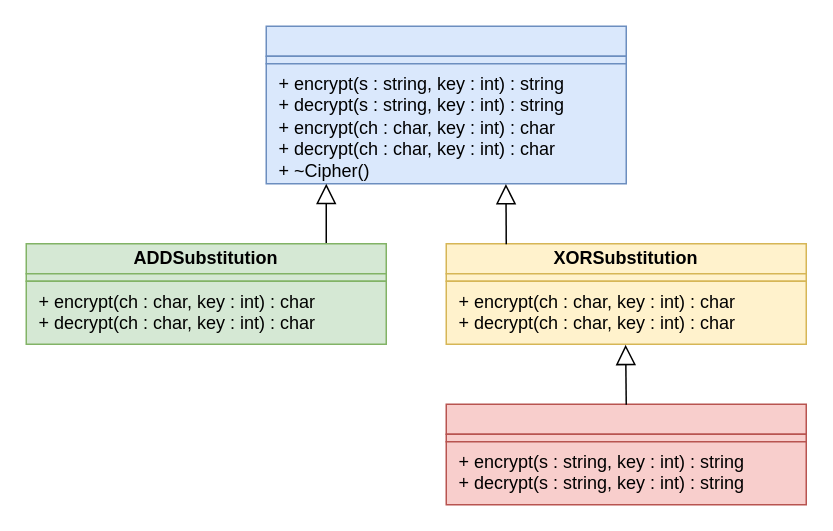
The diagram is 833 pixels wide and 531 high, and some of its shapes have lost their labels. The box of each missing label's shape, as (x1, y1, x2, y2) in pixels:
Cipher: (265, 25, 626, 56)
StreamCipher: (445, 403, 806, 434)
